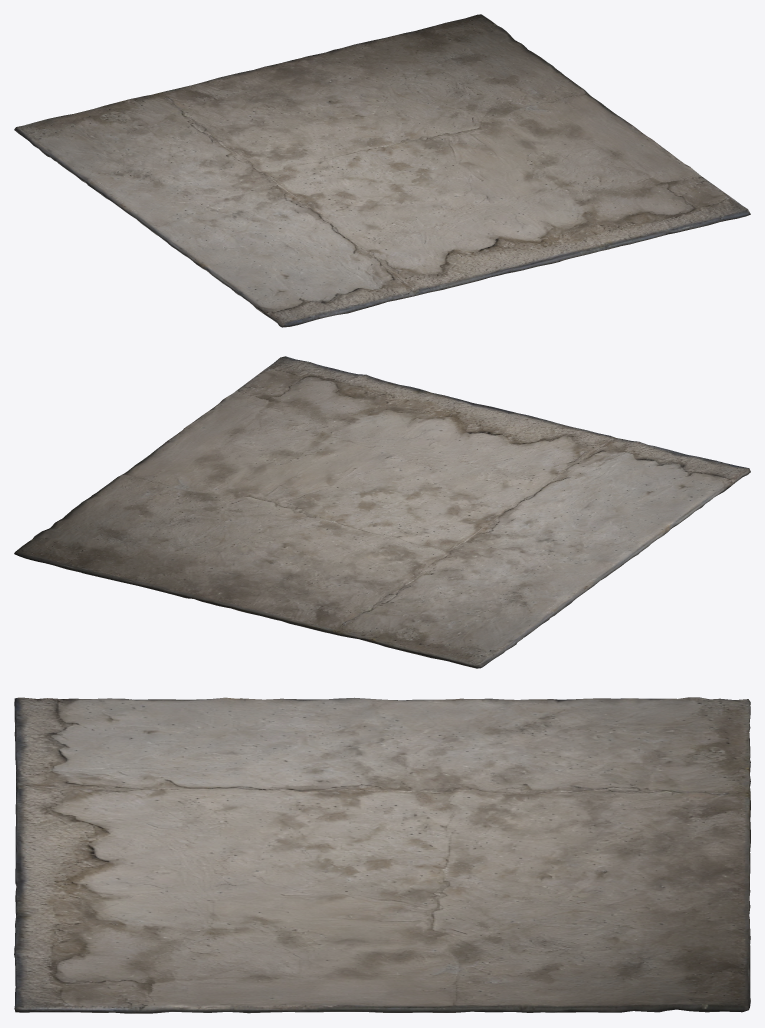
Rendered from Meshy_AI_A_bumpy_crumbling_co_0221052315_texture.glb.
3 views of the same model, one above another, from view 1: azimuth 30°, elevation 25°; view 2: azimuth 150°, elevation 25°; view 3: azimuth 270°, elevation 25° (orthographic). The views are drawn at different scales.
Bounding box in the file's own units: 2 × 0.0293 × 2.
1 material, 1 textured.
